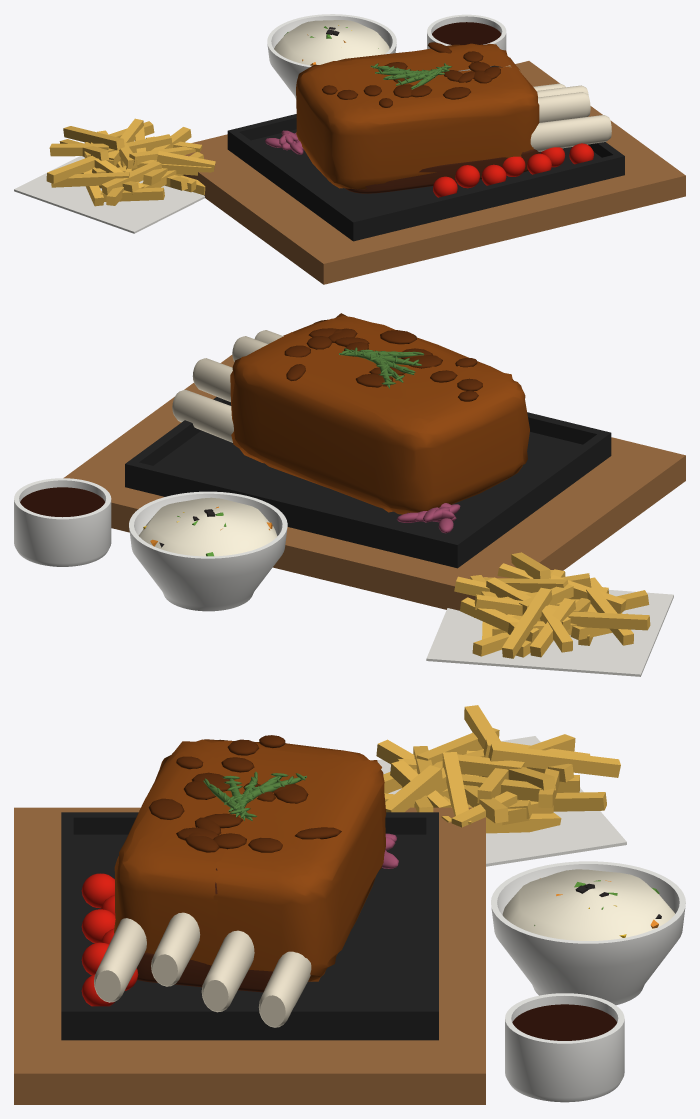
File: costelao_12h.glb
3 views of the same model, one above another, from view 1: azimuth 30°, elevation 25°; view 2: azimuth 150°, elevation 25°; view 3: azimuth 270°, elevation 25° (orthographic). The views are drawn at different scales.
Visible parts, largest first — view 1: costelao_12h; view 2: costelao_12h; view 3: costelao_12h.
Boxes of the visible parts, bbox=[...] form: costelao_12h: bbox=[14, 14, 685, 284]; costelao_12h: bbox=[14, 313, 685, 676]; costelao_12h: bbox=[14, 705, 685, 1104].
Size of the model in its own units: 0.5506 by 0.123 by 0.427.
